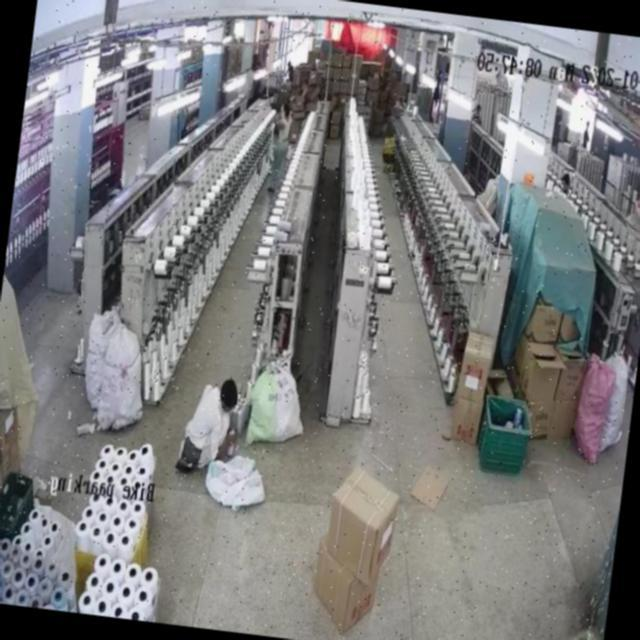person: (176, 368, 238, 470), (265, 94, 293, 203)
